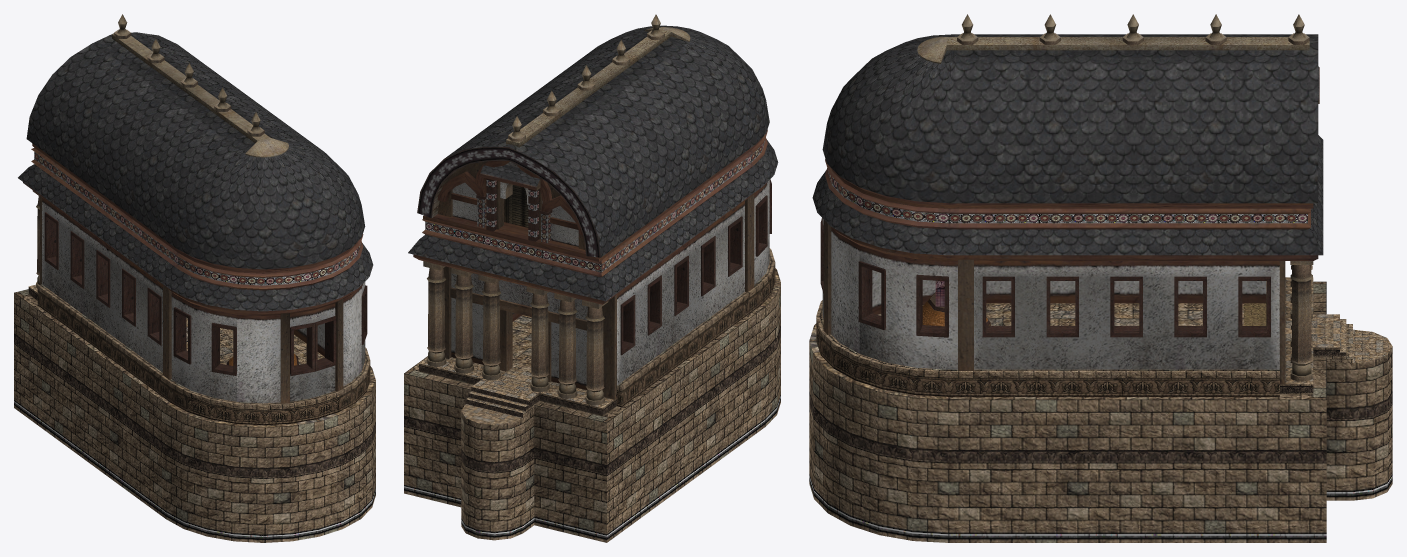
Rendered from maur_temple.glb.
3 renders of one model, left to right at view 1: azimuth 30°, elevation 25°; view 2: azimuth 150°, elevation 25°; view 3: azimuth 270°, elevation 25°, orthographic. The views are drawn at different scales.
Parts seen in each view (by area): view 1: maur_temple_part1, maur_temple_part0; view 2: maur_temple_part1, maur_temple_part0; view 3: maur_temple_part1, maur_temple_part0.
Boxes of the visible parts, bbox=[...] form: maur_temple_part1: bbox=[18, 32, 373, 403]; maur_temple_part0: bbox=[14, 14, 375, 542]; maur_temple_part1: bbox=[408, 25, 778, 399]; maur_temple_part0: bbox=[404, 14, 780, 542]; maur_temple_part1: bbox=[812, 34, 1323, 384]; maur_temple_part0: bbox=[809, 14, 1392, 542].
Size of the model in its own units: 2.4 by 4.44 by 5.
Materials: 2 (2 with a texture image).
